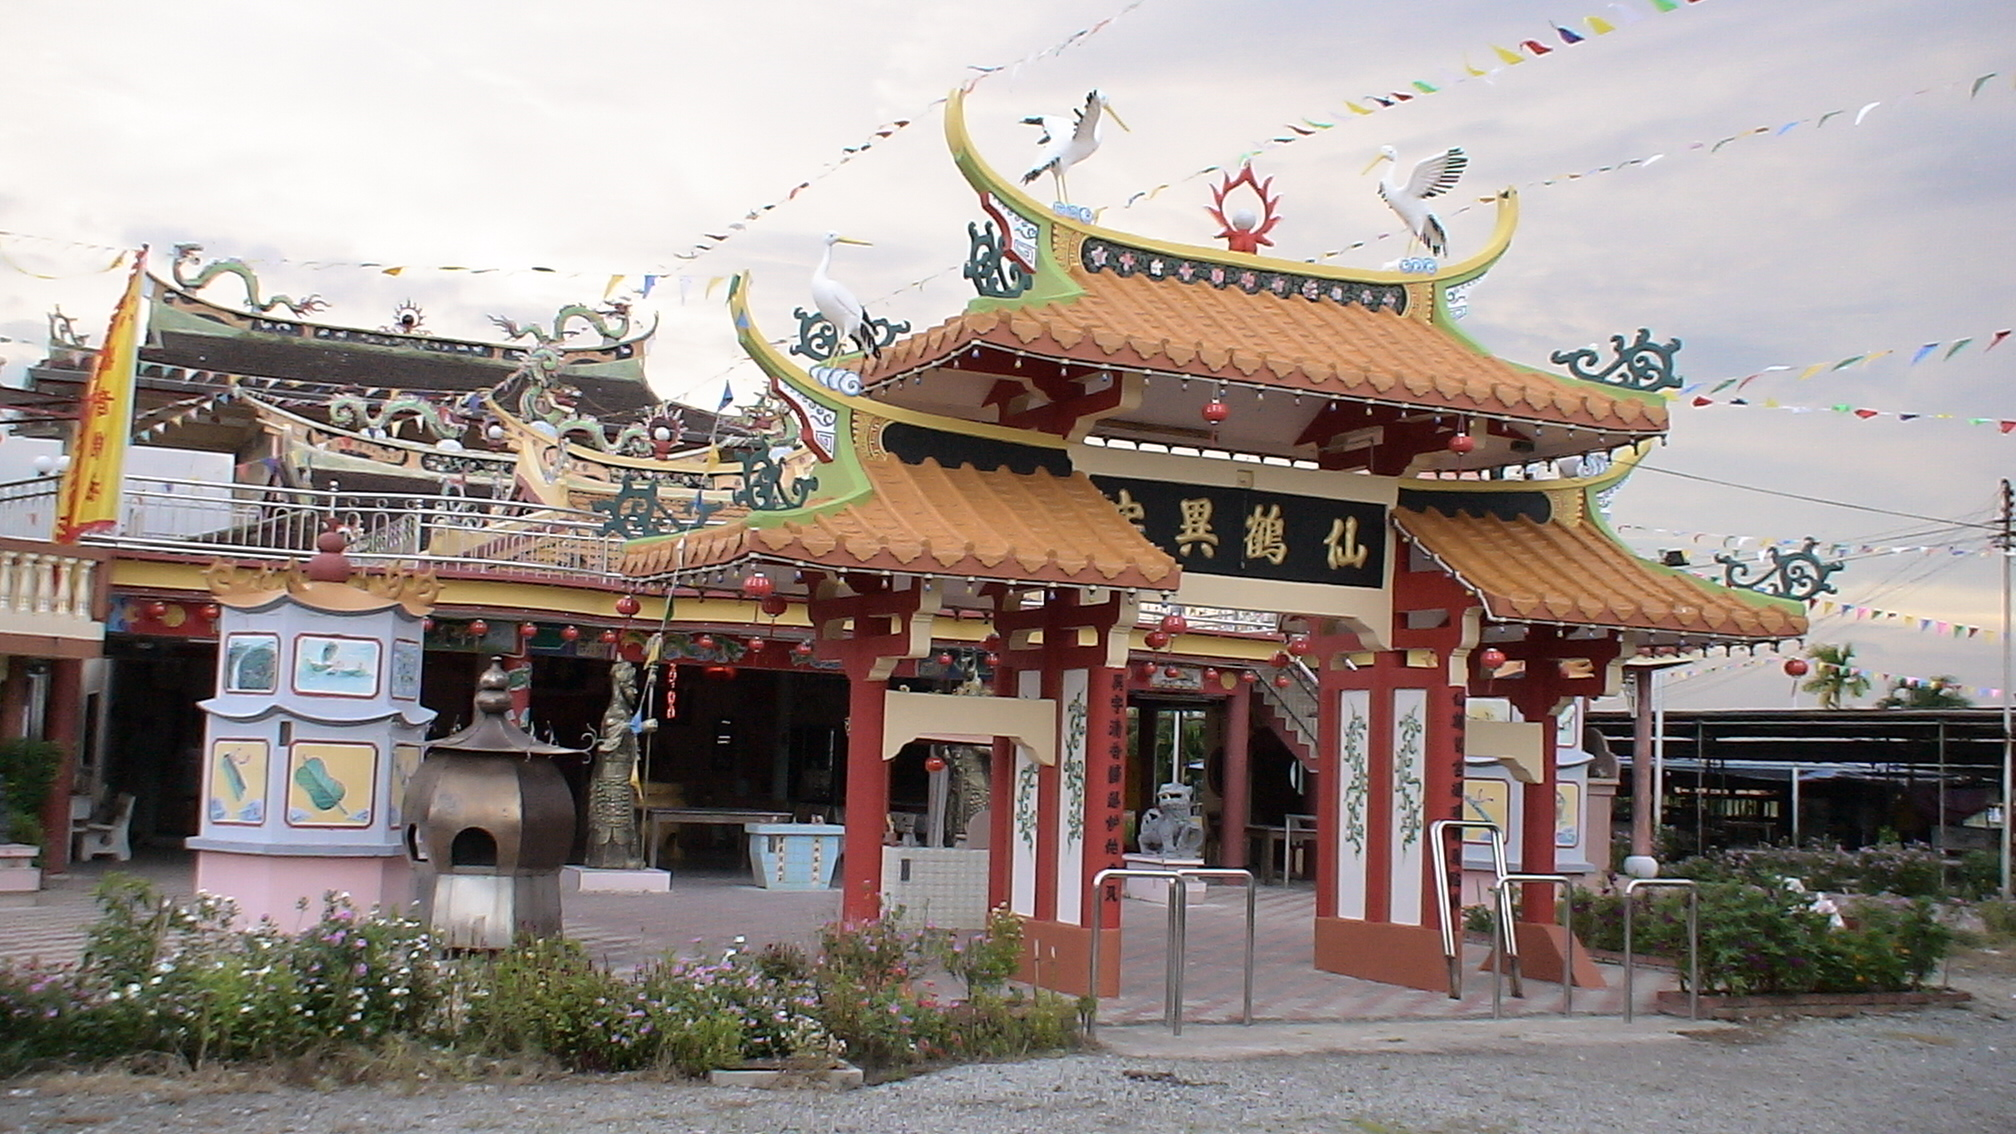Buddhist Temple: (90, 174, 1691, 966)
